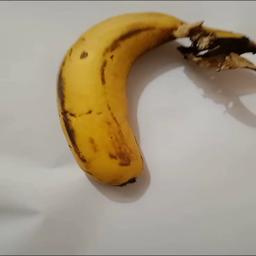Banana Semifresh: (53, 11, 256, 194)
